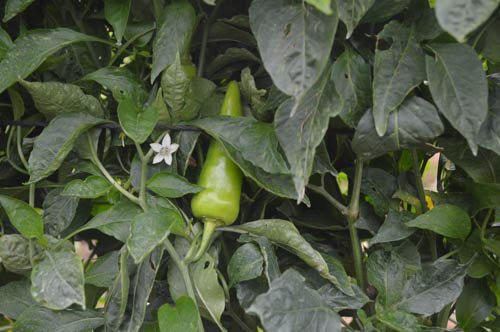ChiliPepper: (190, 80, 242, 225)
